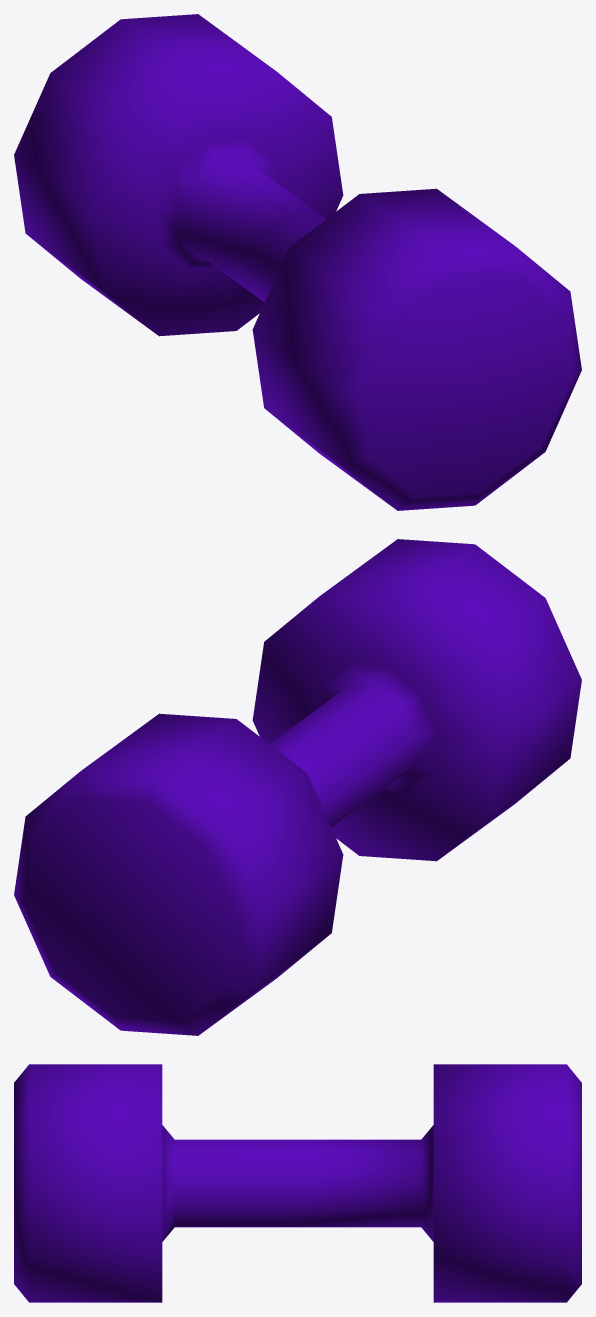
Rendered from ColorfulDumbbells.003.fbx.
3 views of the same model, one above another, from view 1: azimuth 30°, elevation 25°; view 2: azimuth 150°, elevation 25°; view 3: azimuth 270°, elevation 25° (orthographic). The views are drawn at different scales.
Parts seen in each view (by area): view 1: ColurfulDumbbells.004; view 2: ColurfulDumbbells.004; view 3: ColurfulDumbbells.004.
Boxes of the visible parts, <box> form: ColurfulDumbbells.004: <box>14,14,581,510</box>; ColurfulDumbbells.004: <box>14,539,581,1035</box>; ColurfulDumbbells.004: <box>14,1064,581,1302</box>.
Size of the model in its own units: 4.83 by 4.85 by 11.19.
